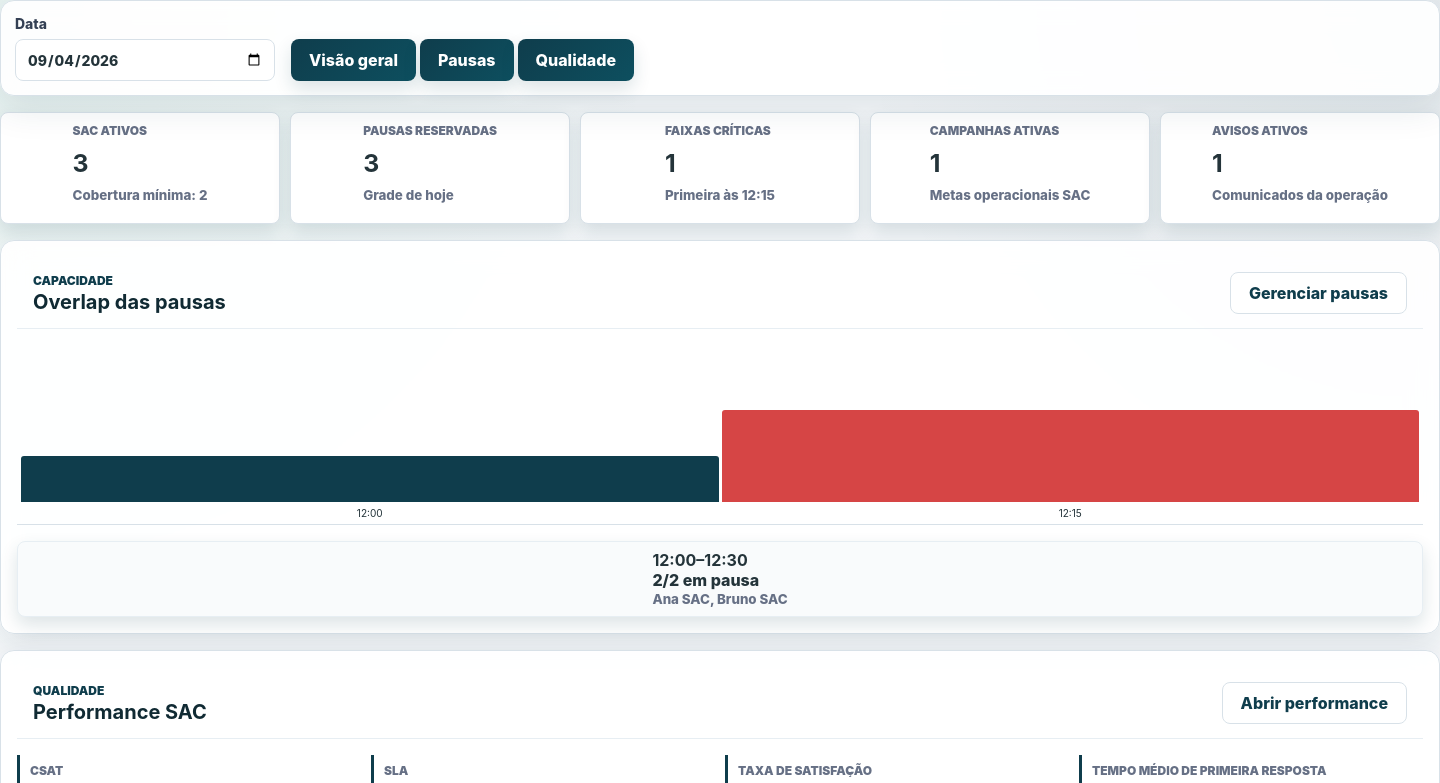
it: DashboardView SAC operational coverage › switches between pause and quality modes without shifting the controls
Click the tab "Qualidade".
click(576, 60)  # box [518,39,634,81]
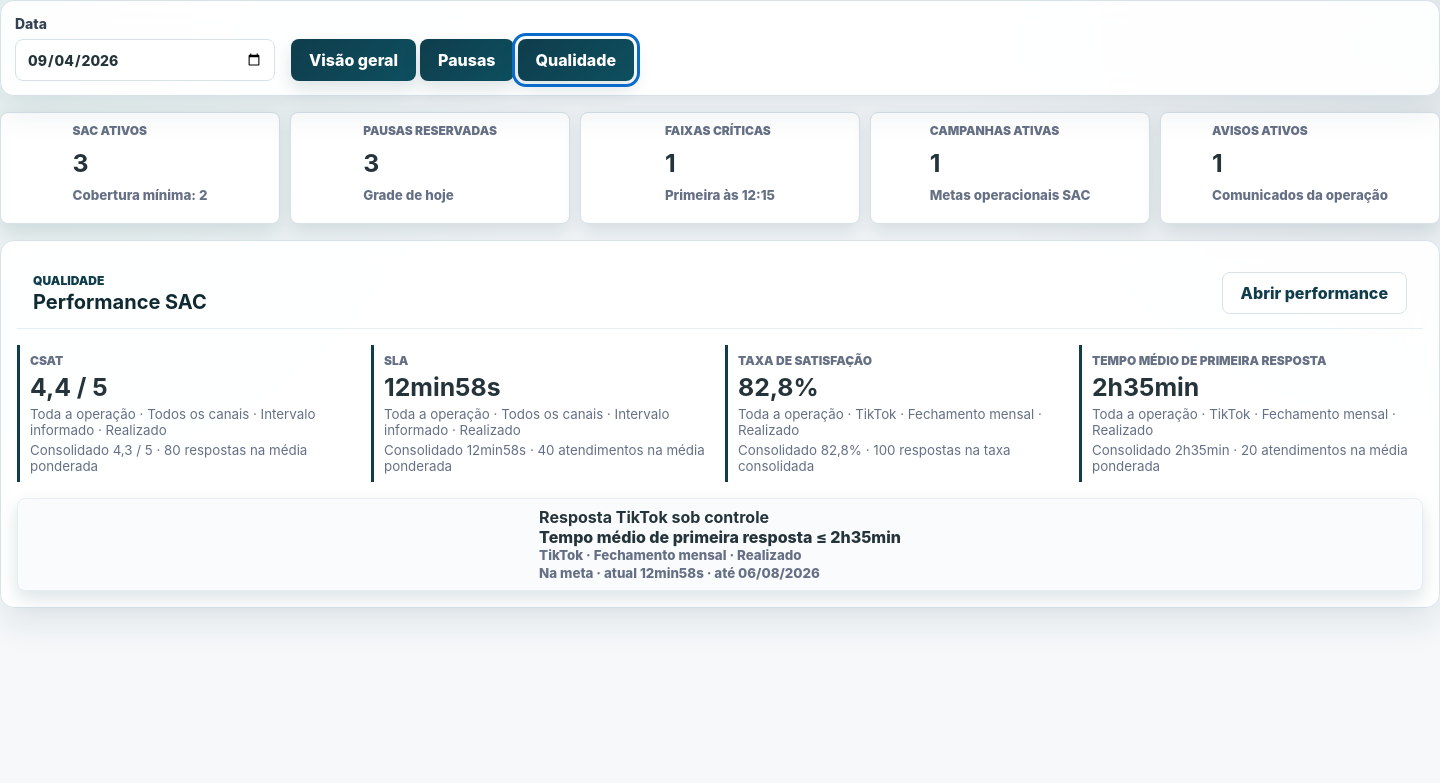
Expected: the heading "Performance SAC" is shown, [33,290,207,314]
Now the heading "Overlap das pausas" is gone
Click the tab "Pausas".
click(467, 60)  # box [420,39,514,81]
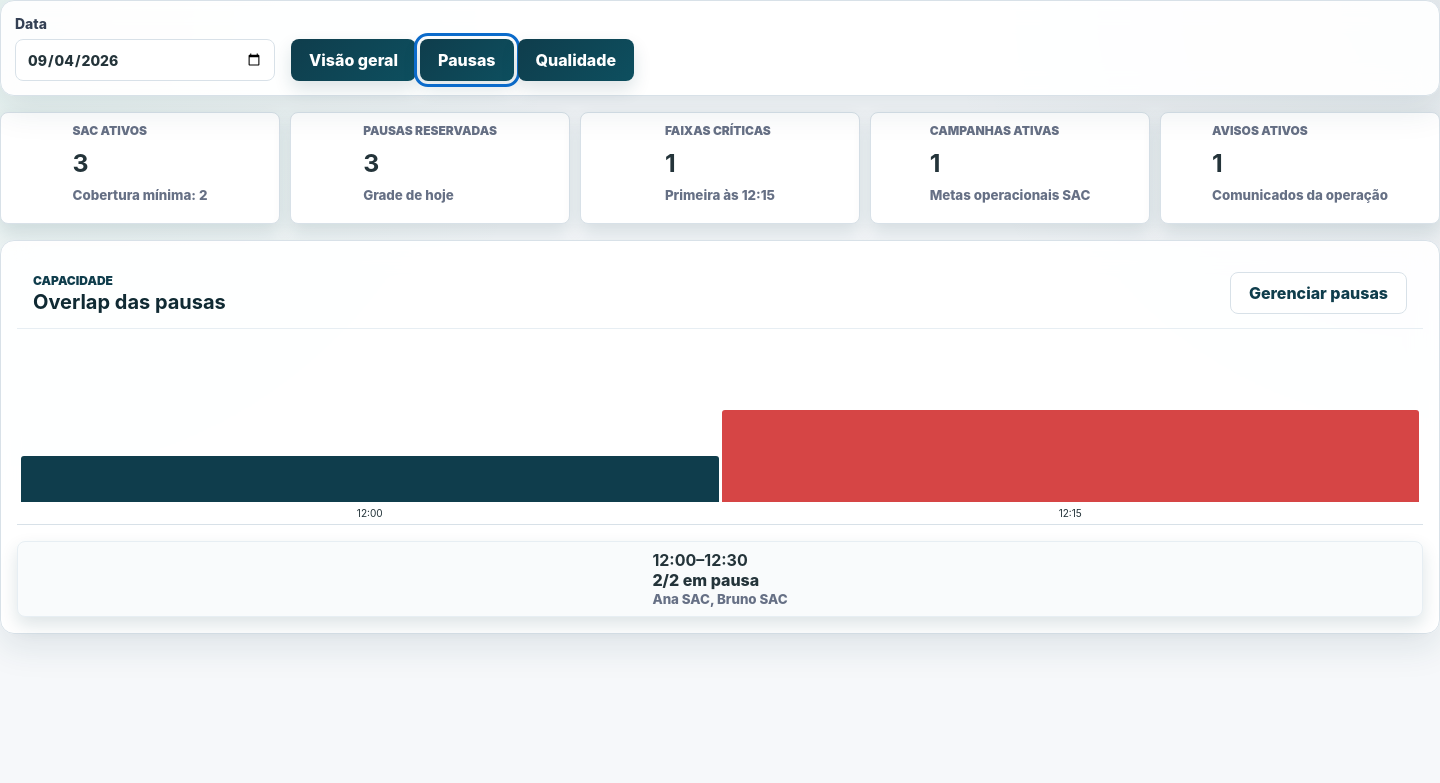
Now the heading "Overlap das pausas" is shown, box [33,290,226,314]
Now the heading "Performance SAC" is gone
